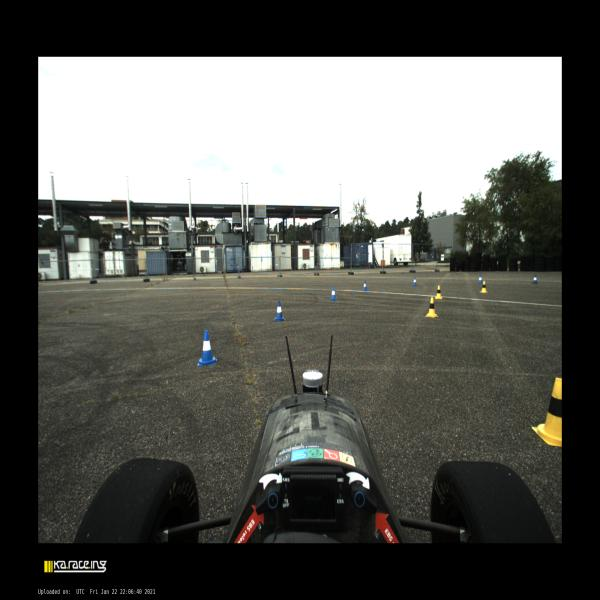blue_cone: (197, 330, 217, 366), (274, 301, 286, 321), (330, 286, 337, 300), (532, 274, 538, 284), (412, 277, 418, 286), (362, 280, 367, 290), (478, 275, 483, 284)
yellow_cone: (532, 378, 561, 447), (425, 297, 438, 318), (435, 285, 442, 299), (480, 281, 487, 293)
